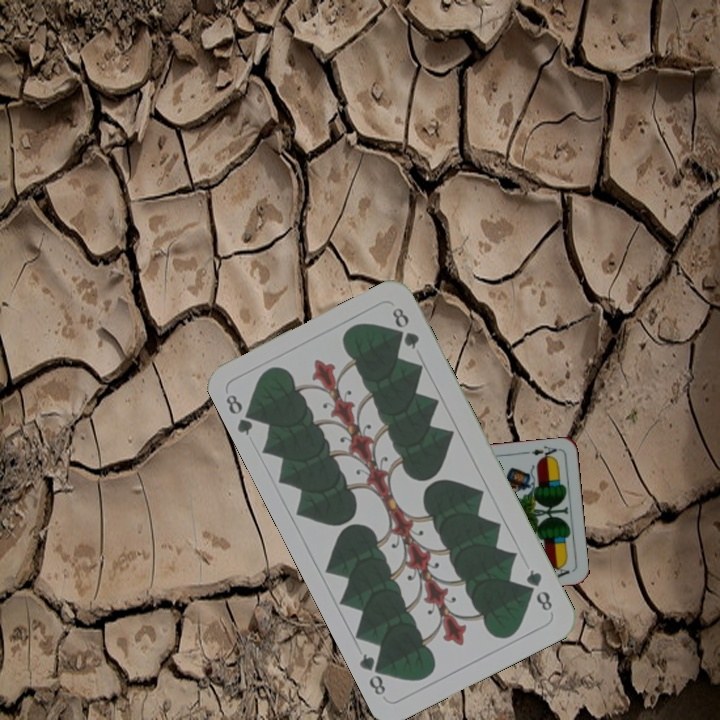EA: (521, 442, 561, 462)
G8: (221, 390, 261, 439), (522, 565, 556, 614)
